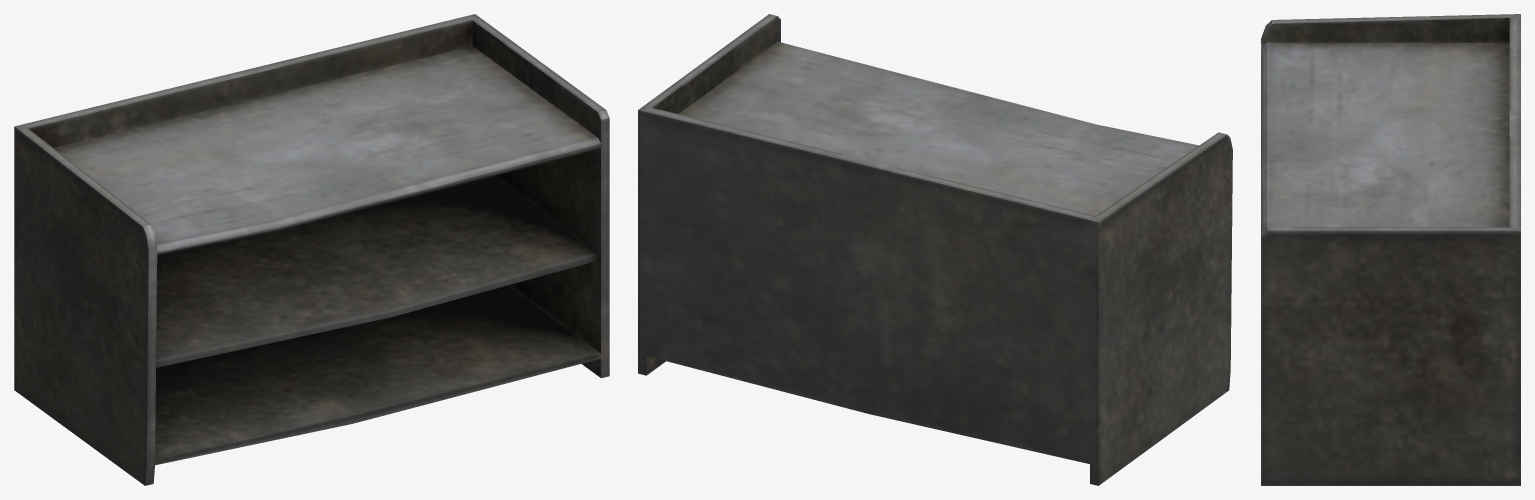
File: S_Storage.FBX
3 views of the same model, side by side, from view 1: azimuth 30°, elevation 25°; view 2: azimuth 150°, elevation 25°; view 3: azimuth 270°, elevation 25° (orthographic). The views are drawn at different scales.
Visible parts, largest first — view 1: S_Storage; view 2: S_Storage; view 3: S_Storage.
Part boxes in pixels (x1=…): S_Storage: x1=14, y1=14, x2=609, y2=485; S_Storage: x1=638, y1=14, x2=1232, y2=485; S_Storage: x1=1261, y1=14, x2=1520, y2=485.
Bounding box in the file's own units: 169 × 92.33 × 85.31.
